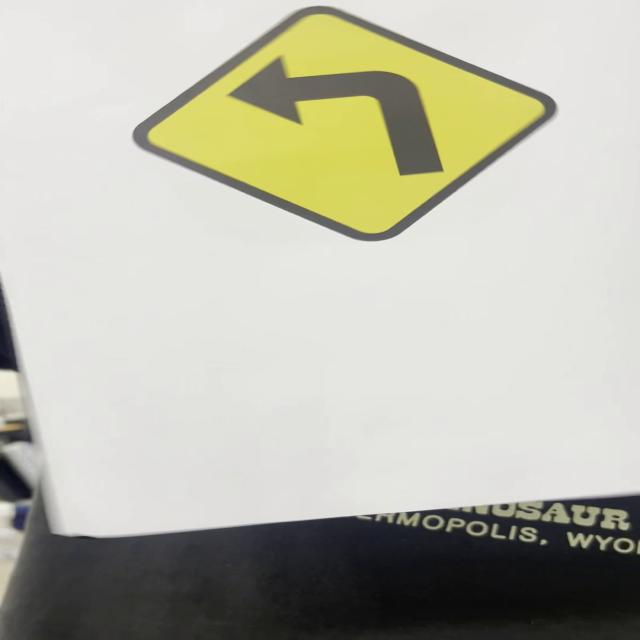left: (132, 7, 560, 241)
